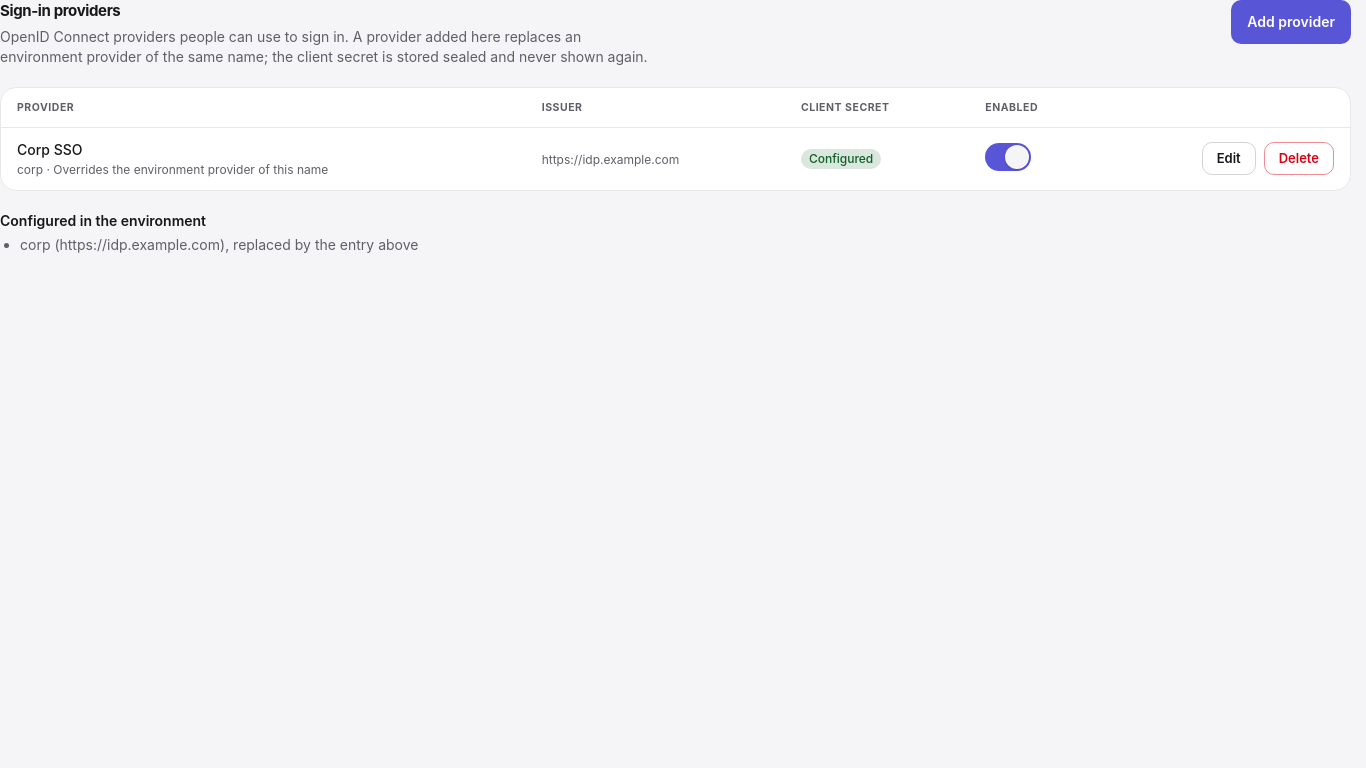
Test case: OIDCProvidersPanel › a 429 reads as an inline rate-limit error
Expected: the text "Corp SSO" is shown, [17,140,82,158]
Click the button with aria-label "Delete provider corp": (1299, 158) [1264,142,1334,175]
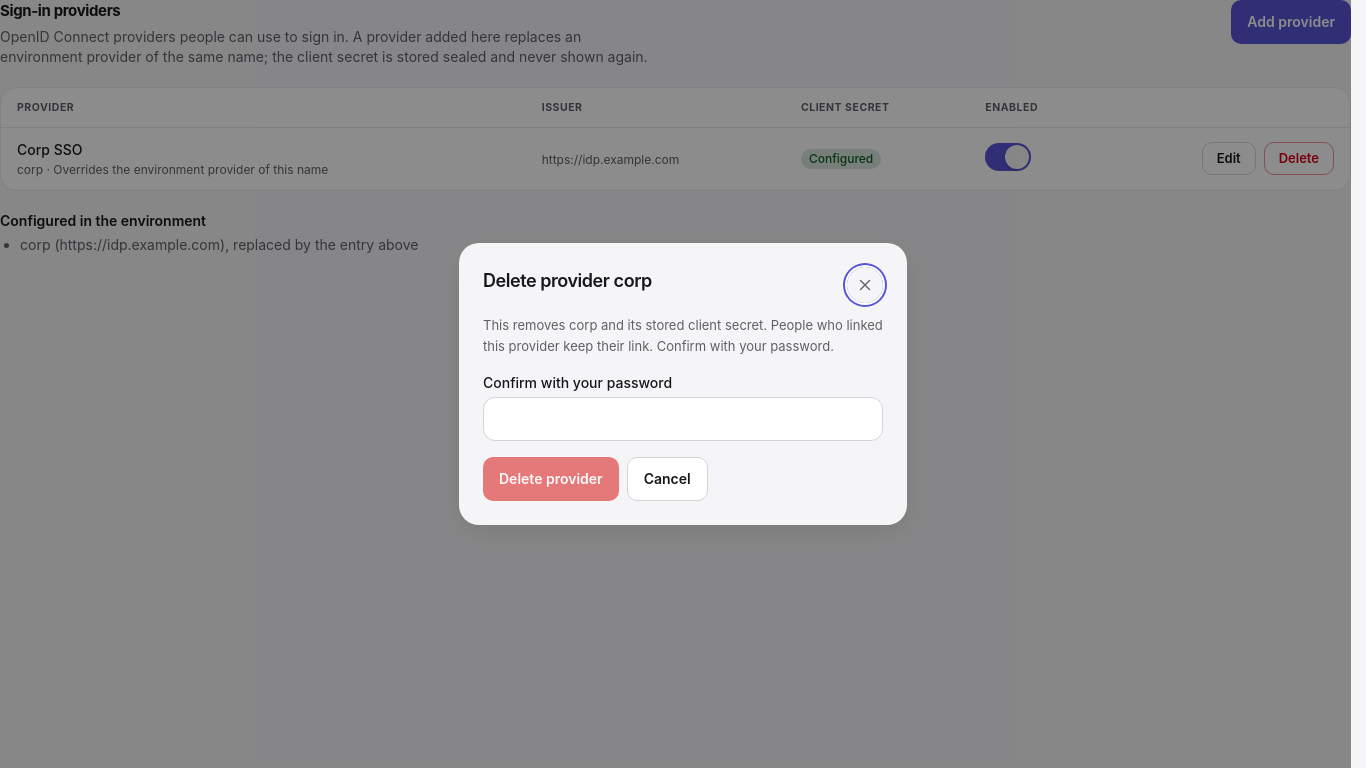
In the password field labelled "Confirm with your password": (683, 419) [483,397,883,441], type "pw"
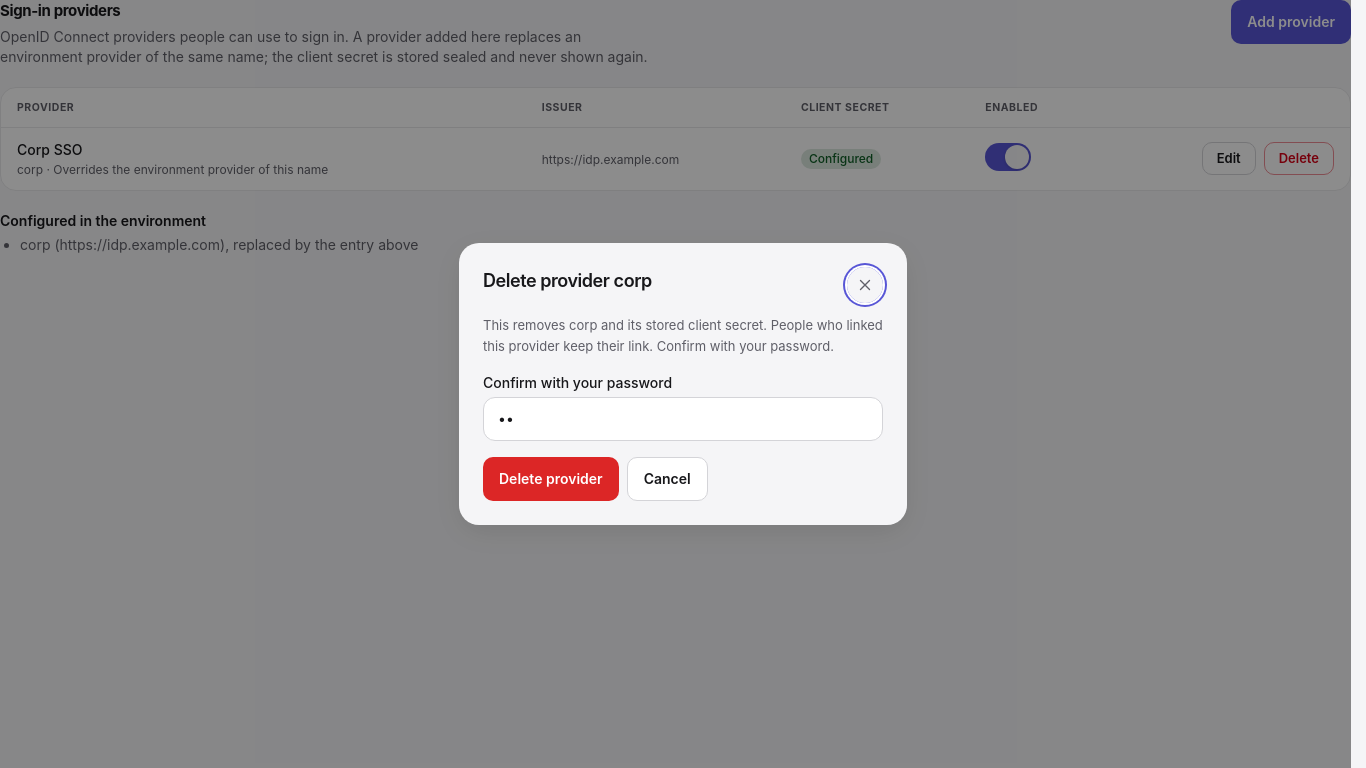
Click the button "Delete provider": (551, 479) [483,457,619,501]
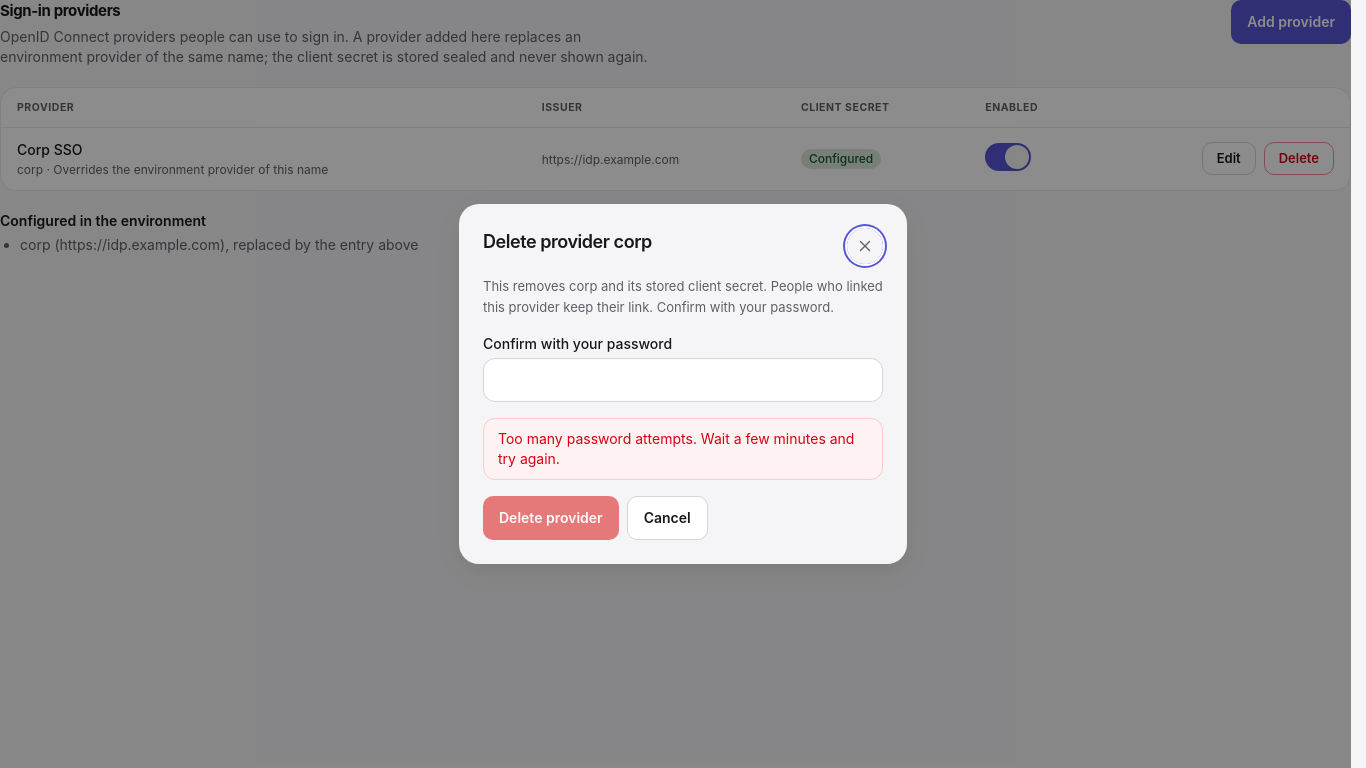
Expected: the text "Too many password attempts. Wait a few minutes and try again." is shown, [483,418,883,480]
